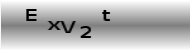2: (79, 26, 92, 39)
E: (25, 8, 38, 23)
V: (59, 20, 77, 34)
t: (100, 9, 112, 22)
x: (46, 20, 61, 31)
